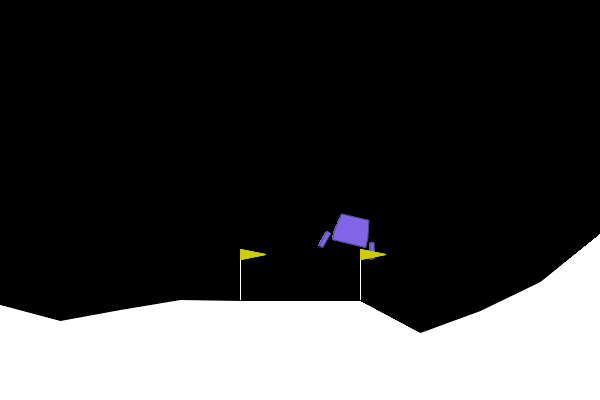lander: (317, 209, 384, 261)
